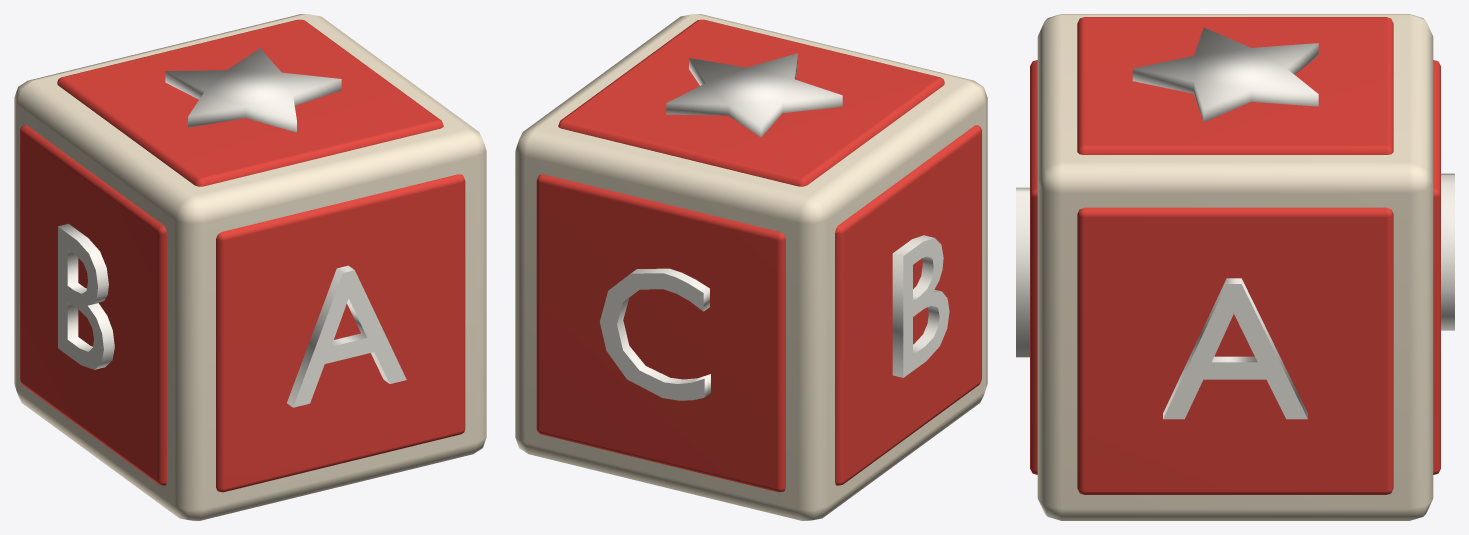
File: toy_block_red.glb
The picture shows the model from 3 angles, left to right: view 1: azimuth 30°, elevation 25°; view 2: azimuth 150°, elevation 25°; view 3: azimuth 270°, elevation 25°; orthographic projection. The views are drawn at different scales.
Parts seen in each view (by area): view 1: toy_block_red; view 2: toy_block_red; view 3: toy_block_red.
Part boxes in pixels (x1,y1,x2,y2): toy_block_red: [14, 14, 486, 520]; toy_block_red: [515, 14, 987, 520]; toy_block_red: [1016, 14, 1454, 520].
Bounding box in the file's own units: 2.66 × 2.53 × 2.66.
